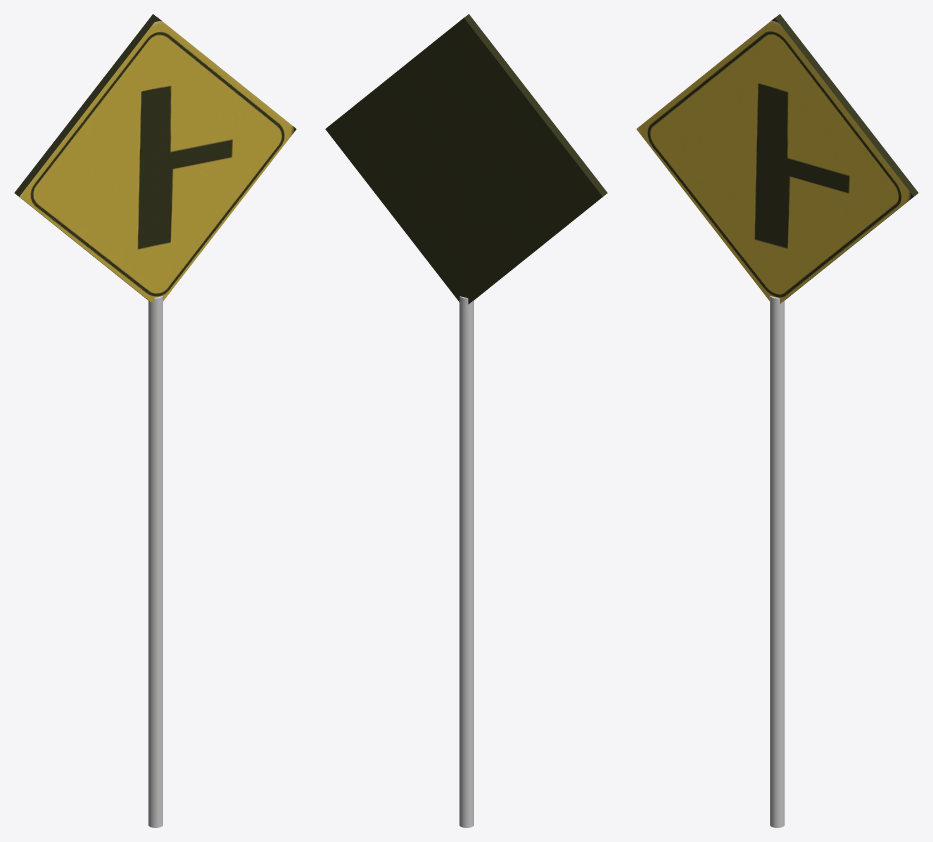
Rendered from Letrero de interseccion.fbx.
3 renders of one model, left to right at view 1: azimuth 30°, elevation 25°; view 2: azimuth 150°, elevation 25°; view 3: azimuth 330°, elevation 25°, orthographic.
Visible parts, largest first — view 1: Cube, Cilindro; view 2: Cube, Cilindro; view 3: Cube, Cilindro.
Part boxes in pixels (x1,y1,x2,y2): Cube: (14,14,296,303); Cilindro: (148,296,162,827); Cube: (325,14,607,304); Cilindro: (459,296,473,827); Cube: (636,14,918,303); Cilindro: (770,296,784,827).
Size of the model in its own units: 283 by 788 by 13.11.
1 material, 1 textured.
